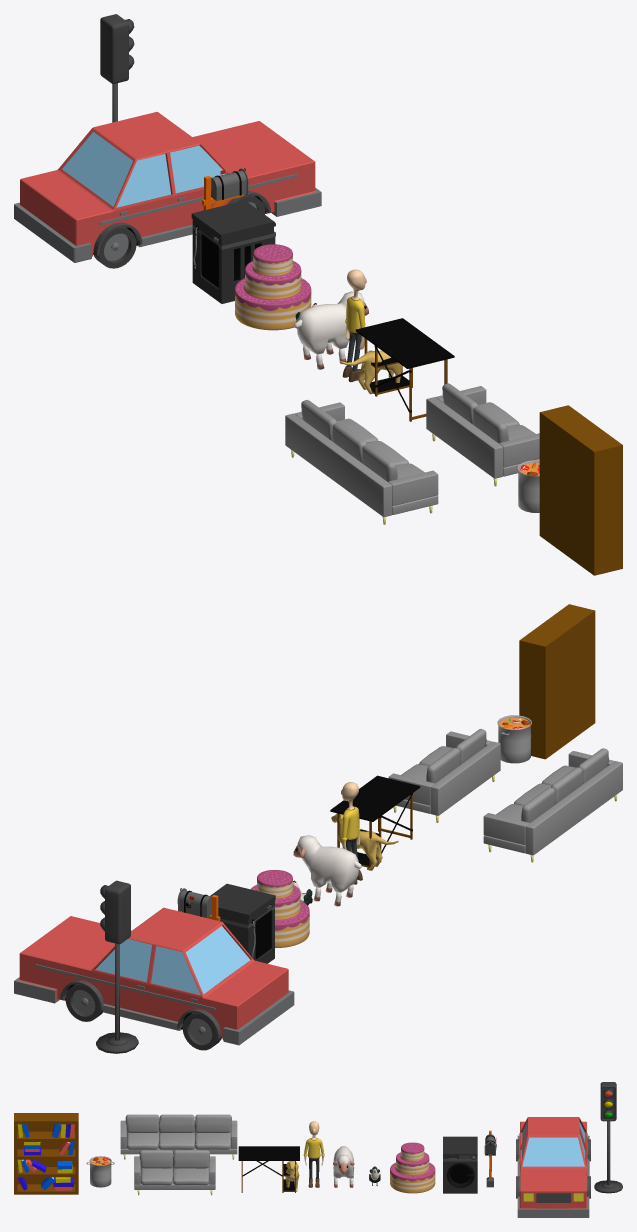
The model's file is Edible Scale2.fbx.
3 renders of one model, top to bottom at view 1: azimuth 30°, elevation 25°; view 2: azimuth 150°, elevation 25°; view 3: azimuth 270°, elevation 25°, orthographic. The views are drawn at different scales.
Visible parts, largest first — view 1: Car, Bookhelf, Couch3, Couch2, Cube.001, Cake, Table, Mouton, Stoplight, Human, Cube, pot of food (+1 smaller); view 2: Car, Bookhelf, Couch3, Couch2, Cube.001, Stoplight, Table, Mouton, Cake, pot of food, Human, Cube (+1 smaller); view 3: Car, Bookhelf, Couch3, Couch2, Cube.001, Cake, Table, Stoplight, Human, Mouton, pot of food, Cube (+1 smaller).
Boxes of the visible parts, x1,y1,x2,y2 form: Car: [14, 112, 321, 268]; Bookhelf: [539, 405, 622, 575]; Couch3: [285, 399, 438, 524]; Couch2: [426, 383, 539, 486]; Cube.001: [191, 200, 275, 303]; Cake: [235, 244, 311, 330]; Table: [355, 318, 454, 421]; Mouton: [294, 291, 368, 369]; Stoplight: [100, 14, 134, 122]; Human: [342, 269, 366, 382]; Cube: [202, 168, 248, 210]; pot of food: [517, 460, 539, 512]; Car: [14, 907, 294, 1050]; Bookhelf: [519, 604, 595, 759]; Couch3: [483, 748, 622, 862]; Couch2: [388, 729, 500, 822]; Cube.001: [210, 883, 275, 963]; Stoplight: [96, 880, 138, 1053]; Table: [330, 775, 420, 867]; Mouton: [293, 835, 361, 906]; Cake: [251, 870, 309, 948]; pot of food: [497, 715, 531, 763]; Human: [341, 782, 362, 884]; Cube: [177, 888, 220, 920]; Car: [516, 1117, 590, 1217]; Bookhelf: [14, 1113, 78, 1194]; Couch3: [120, 1114, 237, 1159]; Couch2: [134, 1150, 215, 1195]; Cube.001: [443, 1136, 477, 1193]; Cake: [390, 1142, 435, 1193]; Table: [238, 1146, 299, 1192]; Stoplight: [594, 1082, 622, 1193]; Human: [303, 1121, 324, 1187]; Mouton: [333, 1146, 354, 1187]; pot of food: [86, 1156, 114, 1187]; Cube: [484, 1130, 496, 1187].
Bounding box in the file's own units: 580 × 372 × 1887.
Materials: 7 (7 with a texture image).
